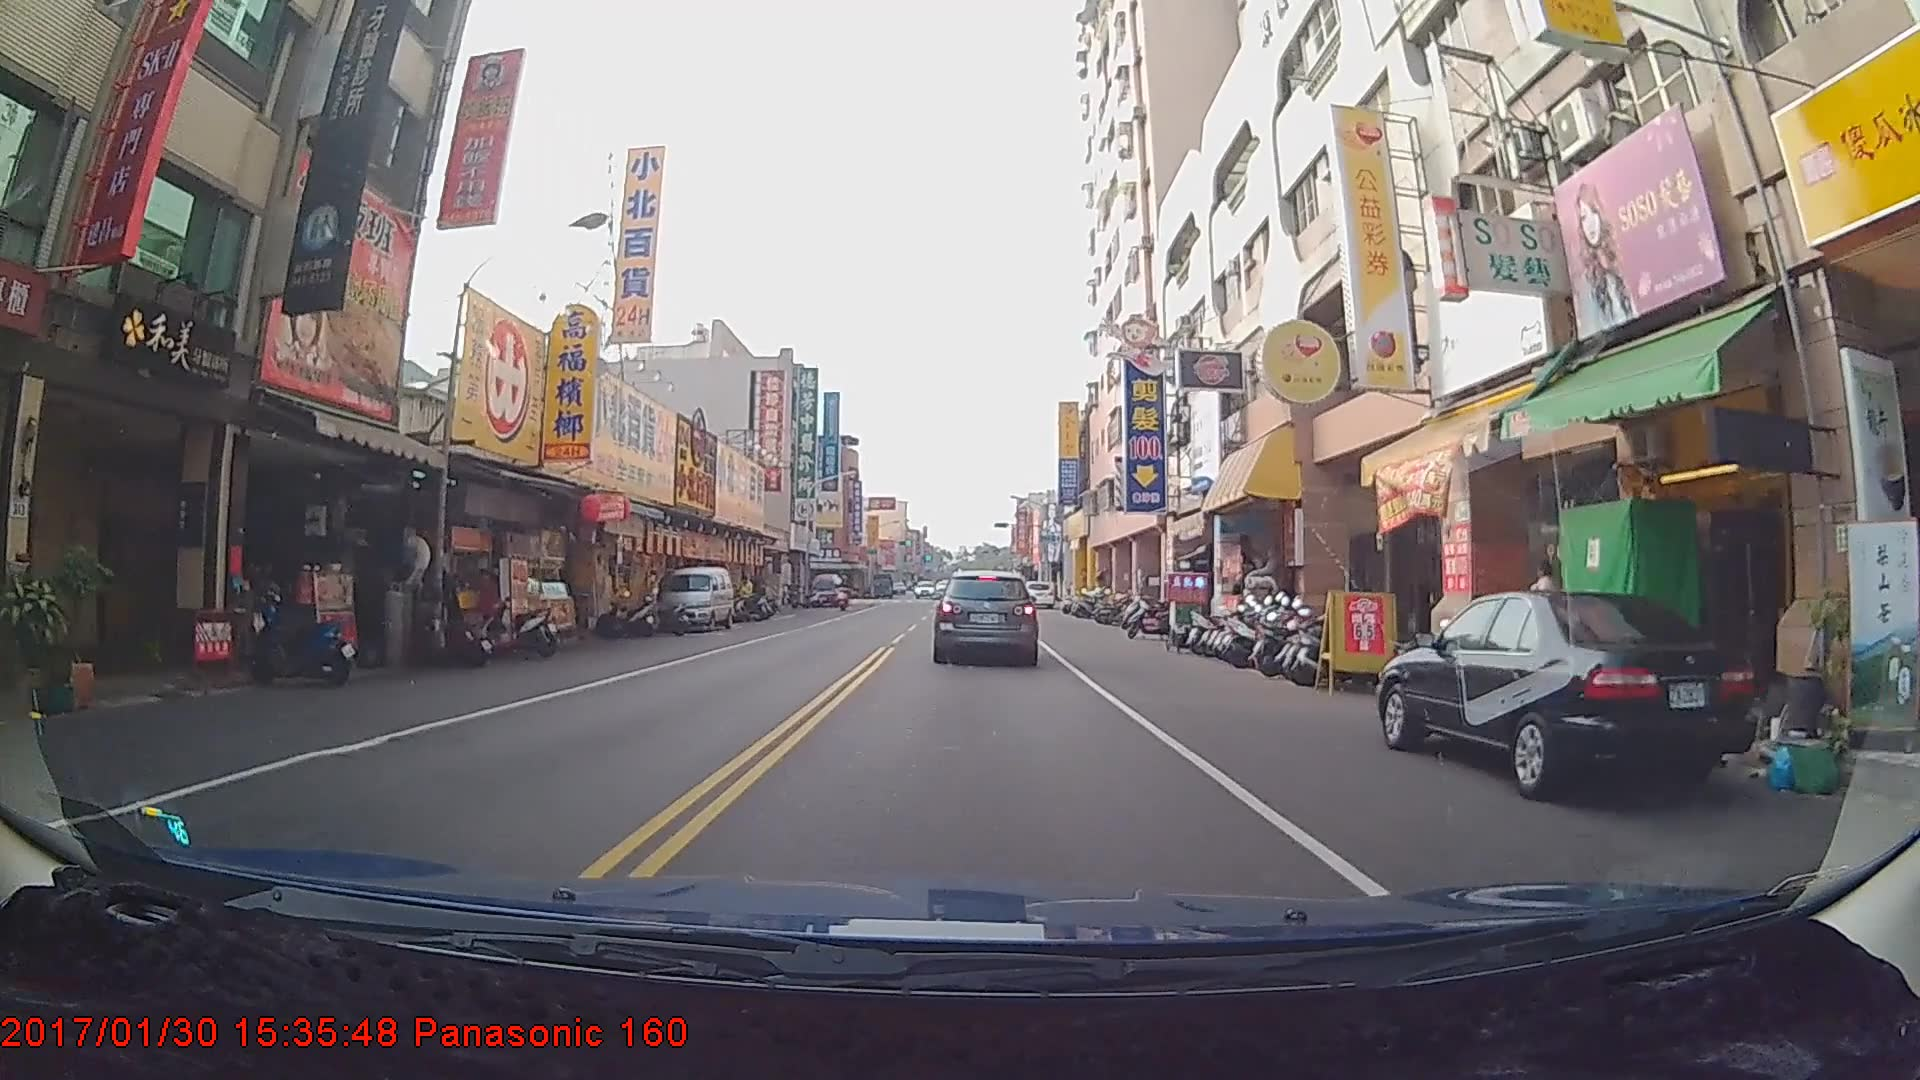vehicle: (1379, 588, 1756, 803), (934, 568, 1039, 665), (657, 564, 735, 632), (807, 571, 845, 607), (1023, 580, 1055, 611)
